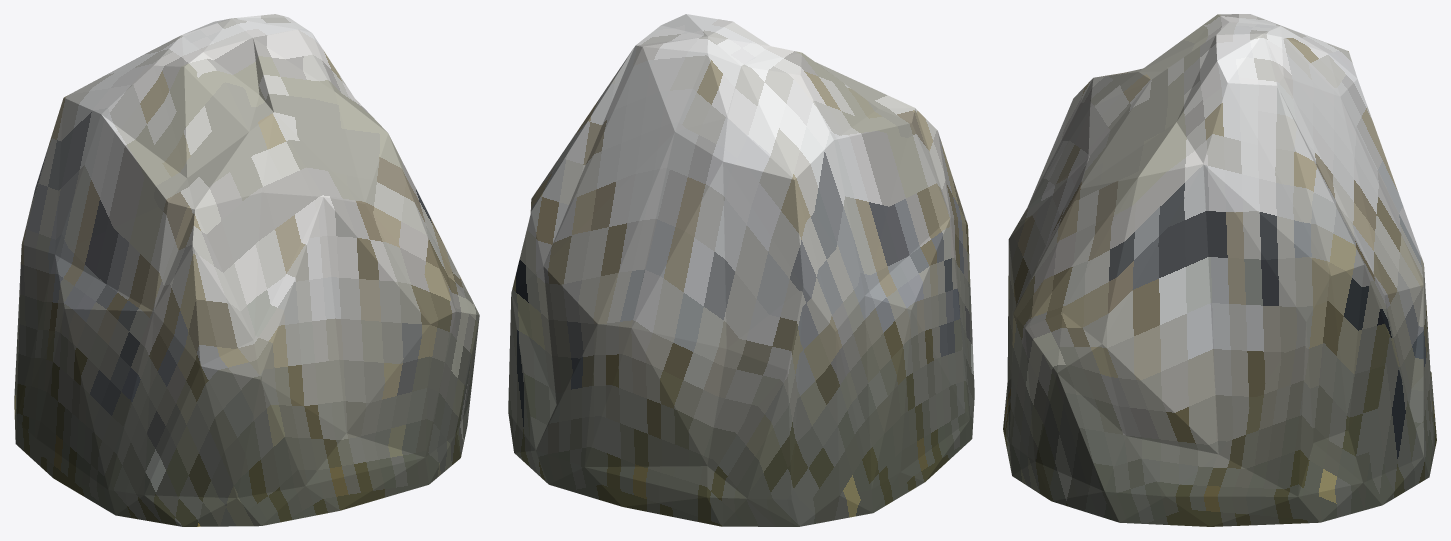
File: medium_rock_snow.obj
The picture shows the model from 3 angles, left to right: view 1: azimuth 30°, elevation 25°; view 2: azimuth 150°, elevation 25°; view 3: azimuth 270°, elevation 25°; orthographic projection. The views are drawn at different scales.
Visible parts, largest first — view 1: Cube; view 2: Cube; view 3: Cube.
Part boxes in pixels (x1,y1,x2,y2): Cube: (14, 14, 479, 526); Cube: (508, 14, 974, 526); Cube: (1003, 14, 1436, 526).
Bounding box in the file's own units: 0.962 × 1 × 0.9602.
1 material, 1 textured.
